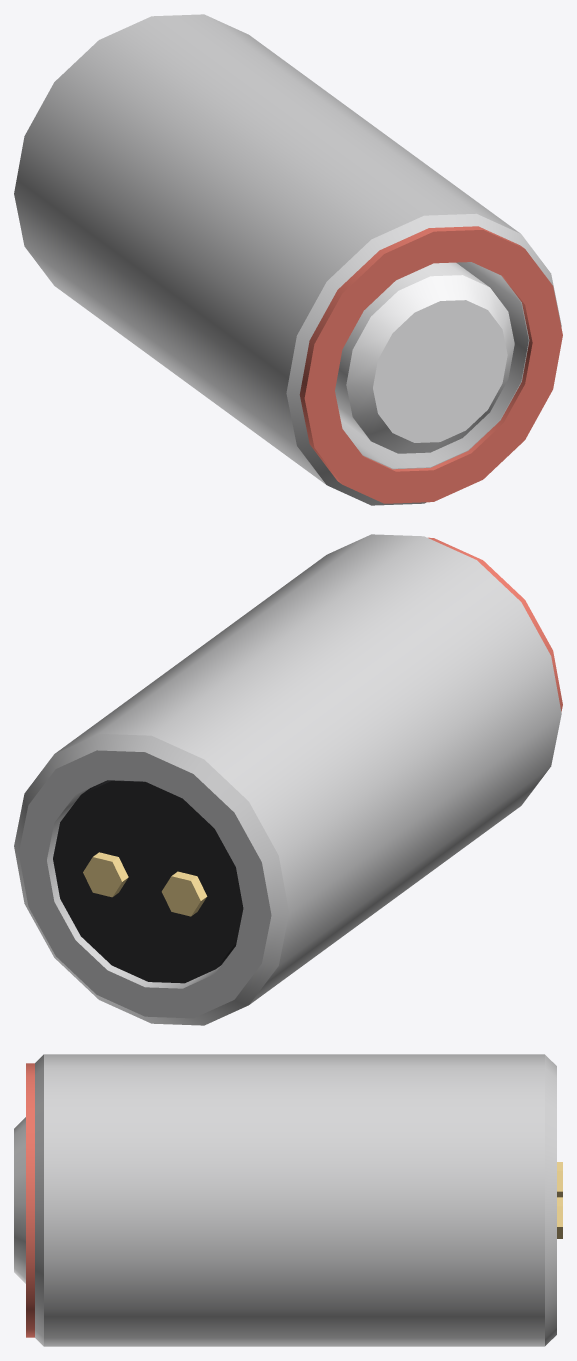
The model's file is deploy_switch.glb.
3 views of the same model, one above another, from view 1: azimuth 30°, elevation 25°; view 2: azimuth 150°, elevation 25°; view 3: azimuth 270°, elevation 25° (orthographic). The views are drawn at different scales.
Parts seen in each view (by area): view 1: deploy_switch, plunger; view 2: deploy_switch; view 3: deploy_switch, plunger.
Boxes of the visible parts, x1,y1,x2,y2 form: deploy_switch: (14,14,562,505); plunger: (335,262,514,453); deploy_switch: (14,534,562,1025); deploy_switch: (26,1054,562,1346); plunger: (14,1117,25,1283).
Size of the model in its own units: 0.0049 by 0.0049 by 0.0092.
